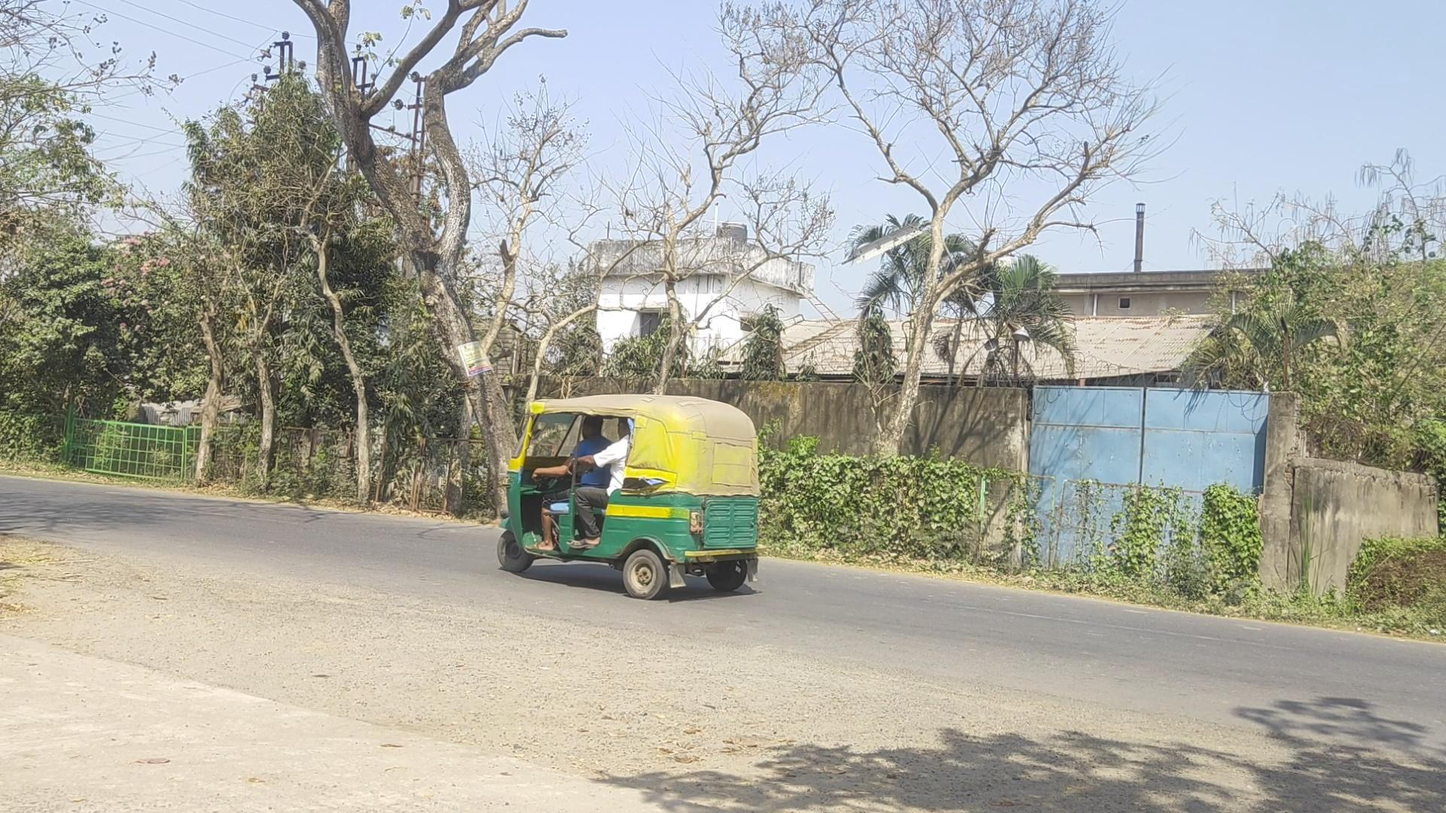Auto: (497, 394, 760, 601)
